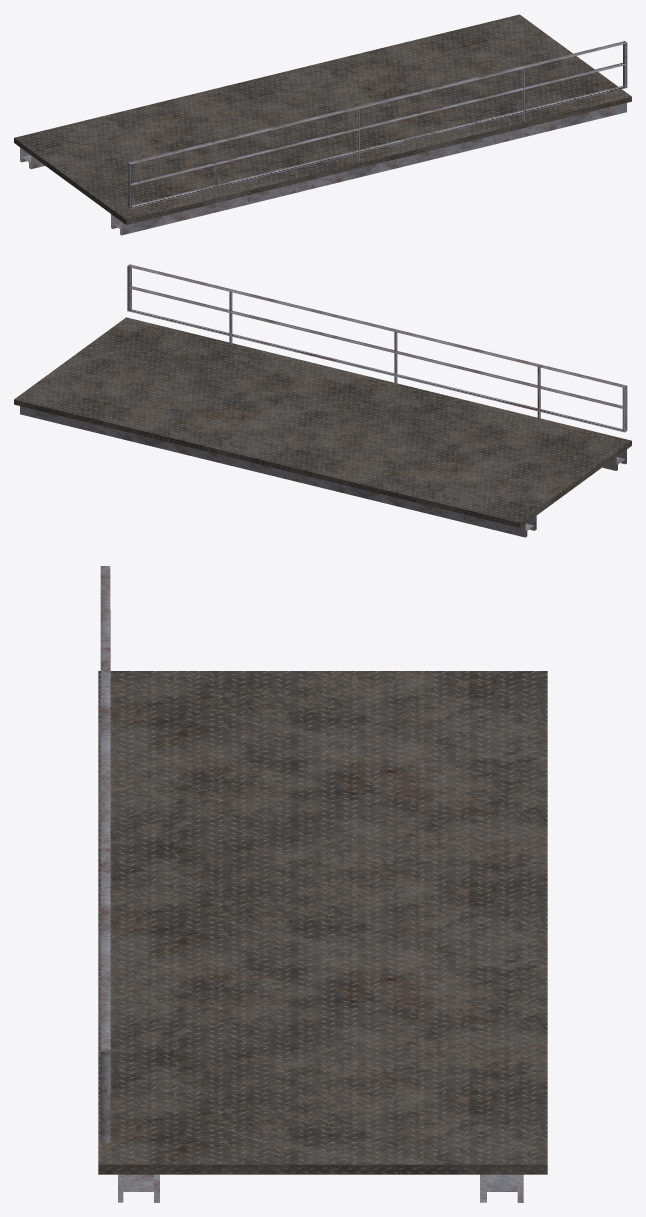
File: Factory1Stairs01.FBX
3 renders of one model, top to bottom at view 1: azimuth 30°, elevation 25°; view 2: azimuth 150°, elevation 25°; view 3: azimuth 270°, elevation 25°, orthographic. The views are drawn at different scales.
Visible parts, largest first — view 1: Factory1Stairs01; view 2: Factory1Stairs01; view 3: Factory1Stairs01.
Boxes of the visible parts, x1,y1,x2,y2 form: Factory1Stairs01: [14, 14, 631, 235]; Factory1Stairs01: [14, 264, 631, 537]; Factory1Stairs01: [98, 566, 547, 1202].
Bounding box in the file's own units: 650 × 90.4 × 250.
